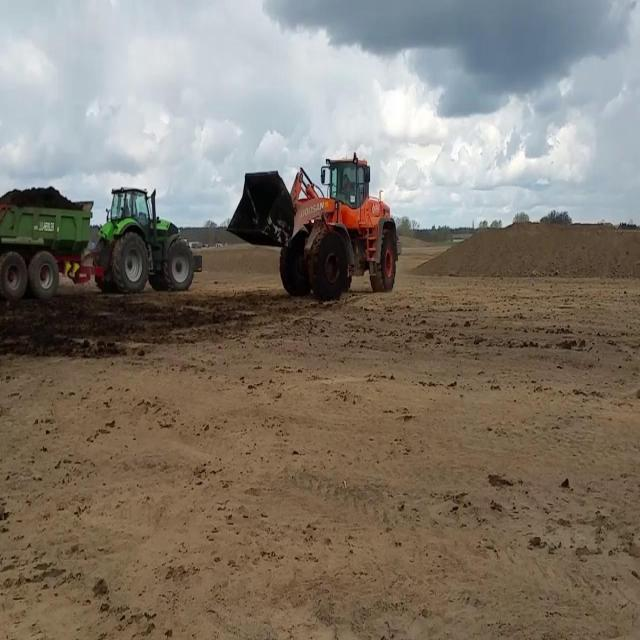buldozerpayloadergrader: (222, 148, 402, 300)
dump_truck: (0, 184, 202, 302)
